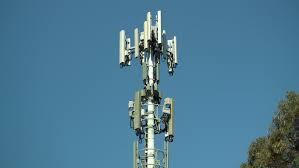antenna: (163, 99, 176, 143), (133, 92, 145, 134), (118, 27, 129, 67), (156, 9, 166, 45), (141, 16, 149, 53), (171, 35, 177, 68)
